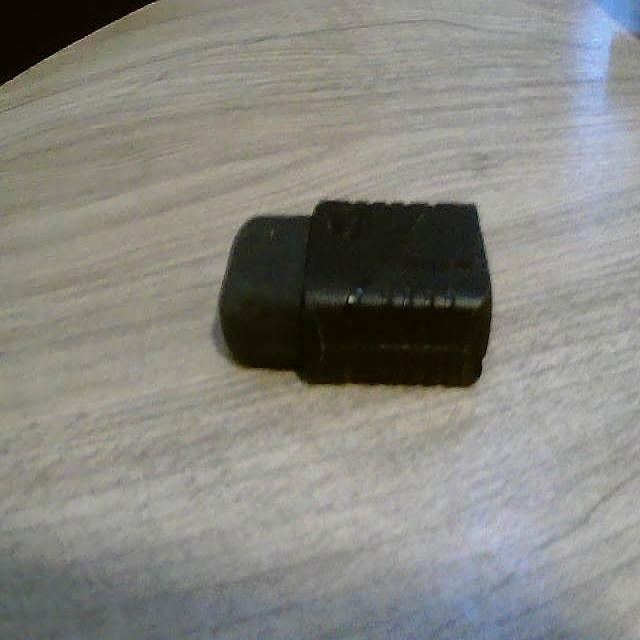borracha: (188, 166, 520, 388)
